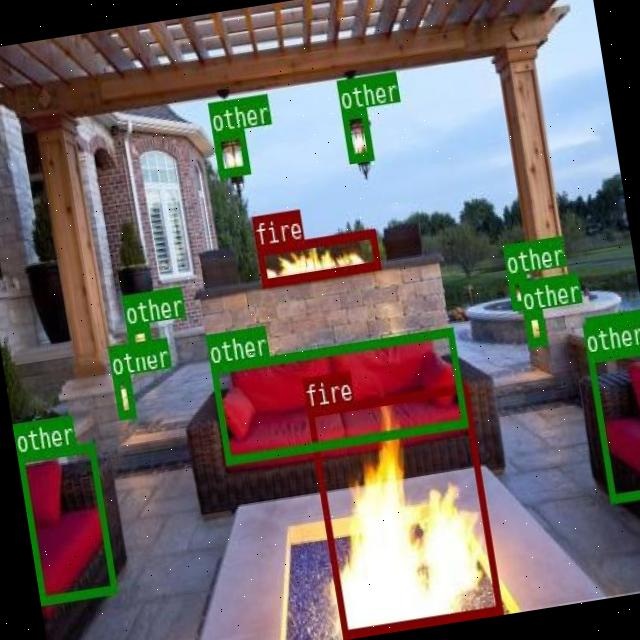fire: (307, 384, 501, 637), (256, 228, 380, 286)
